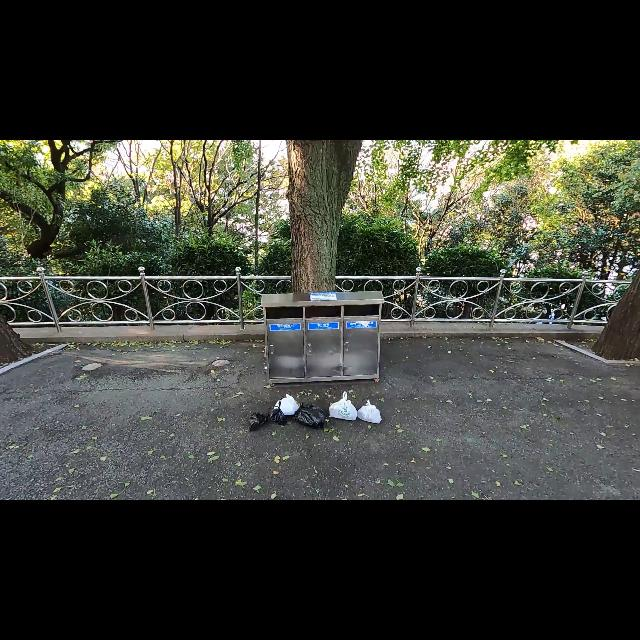trash: (329, 391, 359, 423), (294, 400, 326, 430), (357, 399, 383, 427), (272, 393, 300, 415), (268, 404, 288, 426), (248, 410, 268, 432)
